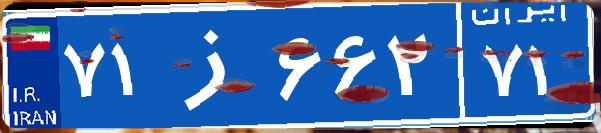1: (110, 28, 158, 105), (525, 38, 570, 115)
2: (385, 28, 445, 110)
6: (273, 28, 330, 110), (330, 28, 385, 110)
7: (57, 26, 110, 107), (475, 38, 525, 113)
ز: (158, 15, 273, 115)
